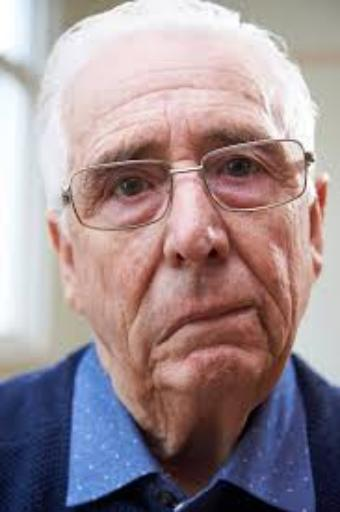left_eye: (211, 157, 274, 185)
left_lip_corner: (244, 299, 260, 321)
right_eye: (108, 175, 162, 204)
right_lip_corner: (151, 328, 175, 352)
